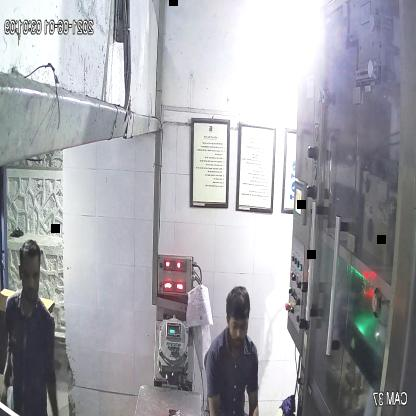no_goggles: (223, 312, 253, 336), (16, 262, 43, 288)
